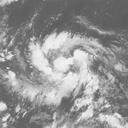cyclone: (21, 30, 102, 109)
